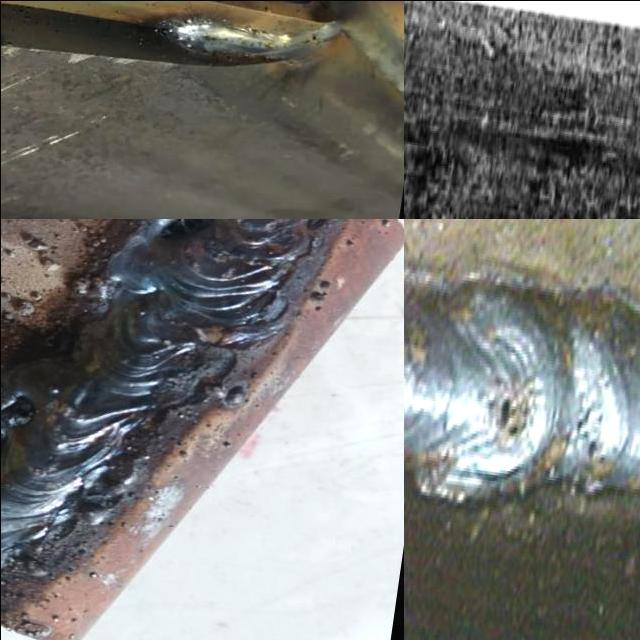defect: (566, 399, 602, 477), (0, 398, 35, 455), (149, 218, 219, 242), (493, 382, 518, 442)
